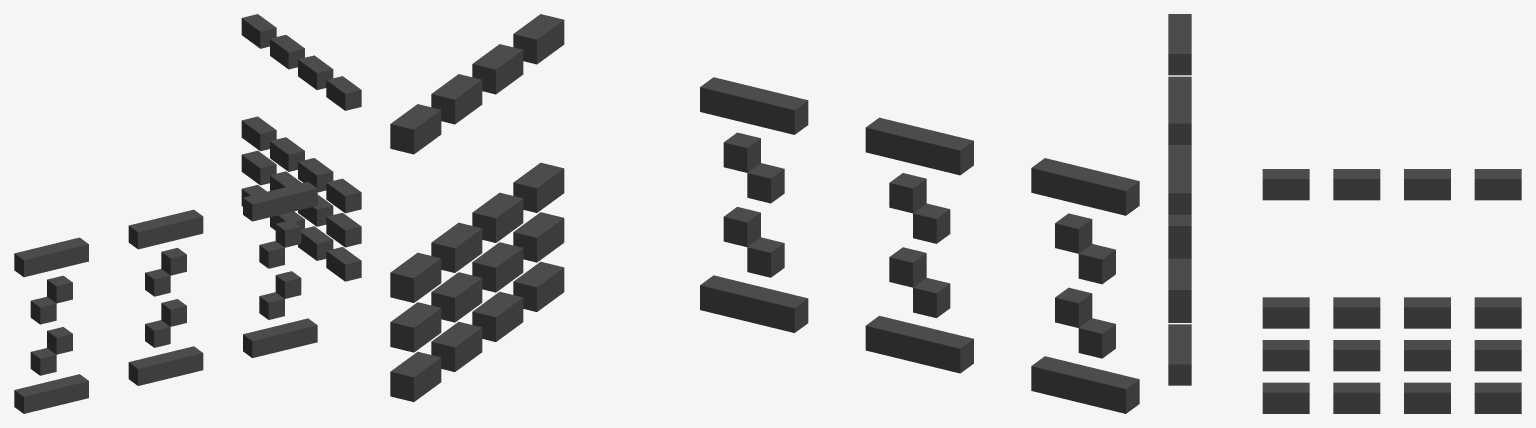
File: fabrica-0.obj
3 renders of one model, left to right at view 1: azimuth 30°, elevation 25°; view 2: azimuth 150°, elevation 25°; view 3: azimuth 270°, elevation 25°, orthographic. The views are drawn at different scales.
Bounding box in the file's own units: 2.3 × 1.2 × 1.5.
